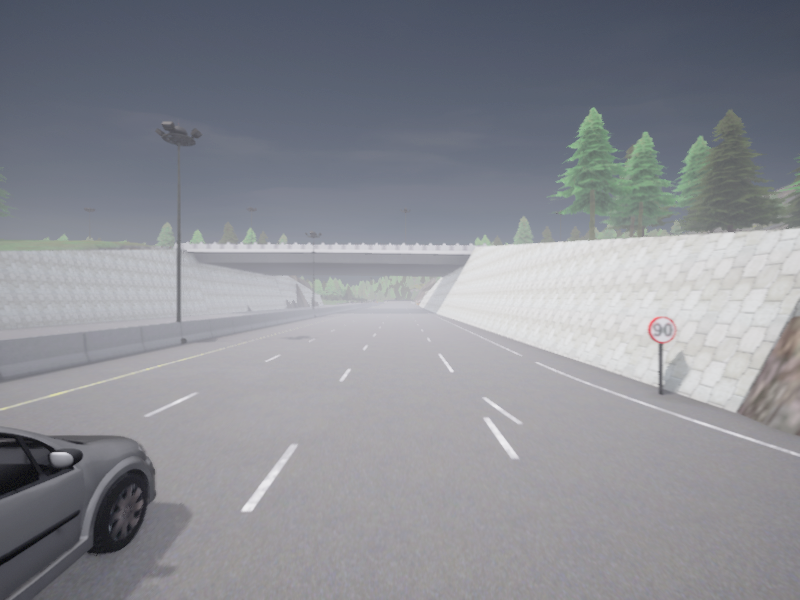vehicle: (0, 426, 156, 599)
